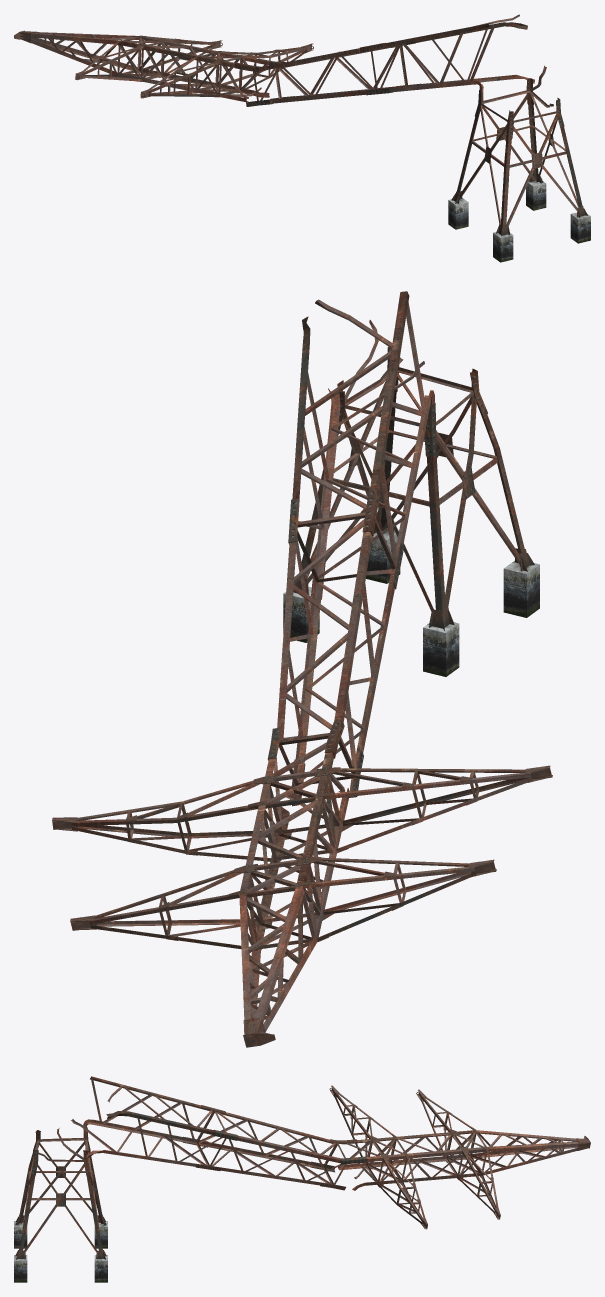
Rendered from LEP_Broken.FBX.
The picture shows the model from 3 angles, top to bottom: view 1: azimuth 30°, elevation 25°; view 2: azimuth 150°, elevation 25°; view 3: azimuth 270°, elevation 25°; orthographic projection. The views are drawn at different scales.
Parts seen in each view (by area): view 1: oporaLEP; view 2: oporaLEP; view 3: oporaLEP.
Part boxes in pixels (<box>): oporaLEP: <box>14,14,590,262</box>; oporaLEP: <box>52,291,552,1047</box>; oporaLEP: <box>14,1076,590,1282</box>.
Bounding box in the file's own units: 12.48 × 8.2 × 23.81.
